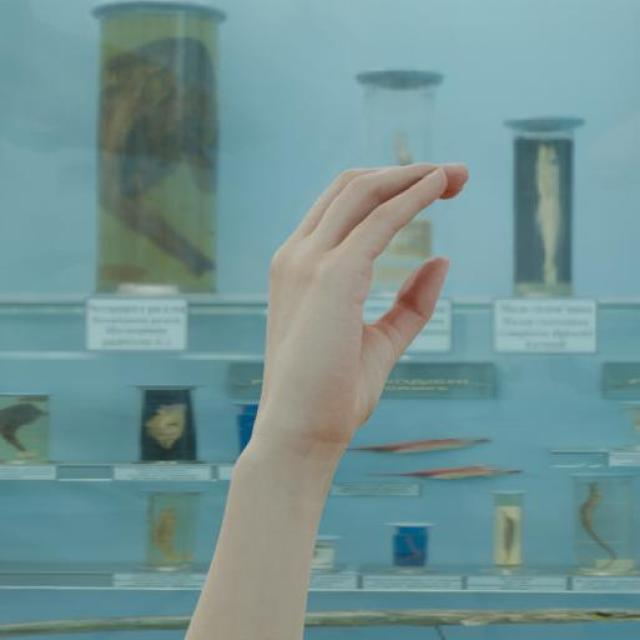C: (237, 156, 472, 456)
